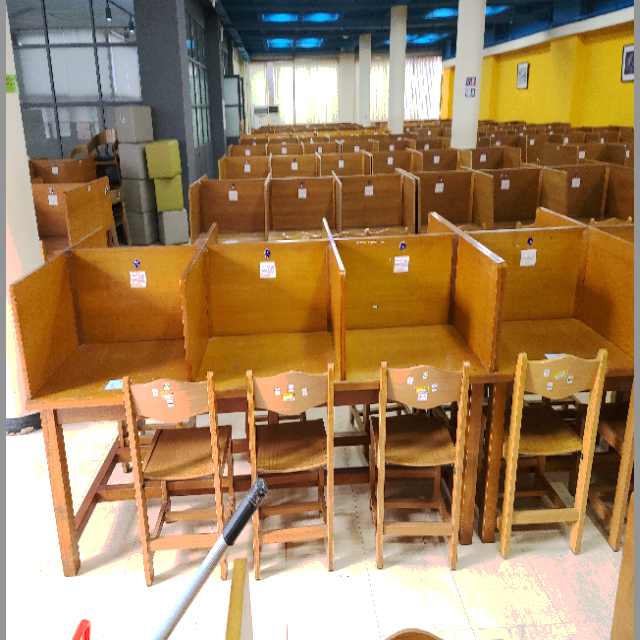empty: (11, 244, 187, 474), (193, 227, 346, 465), (353, 224, 496, 460)
